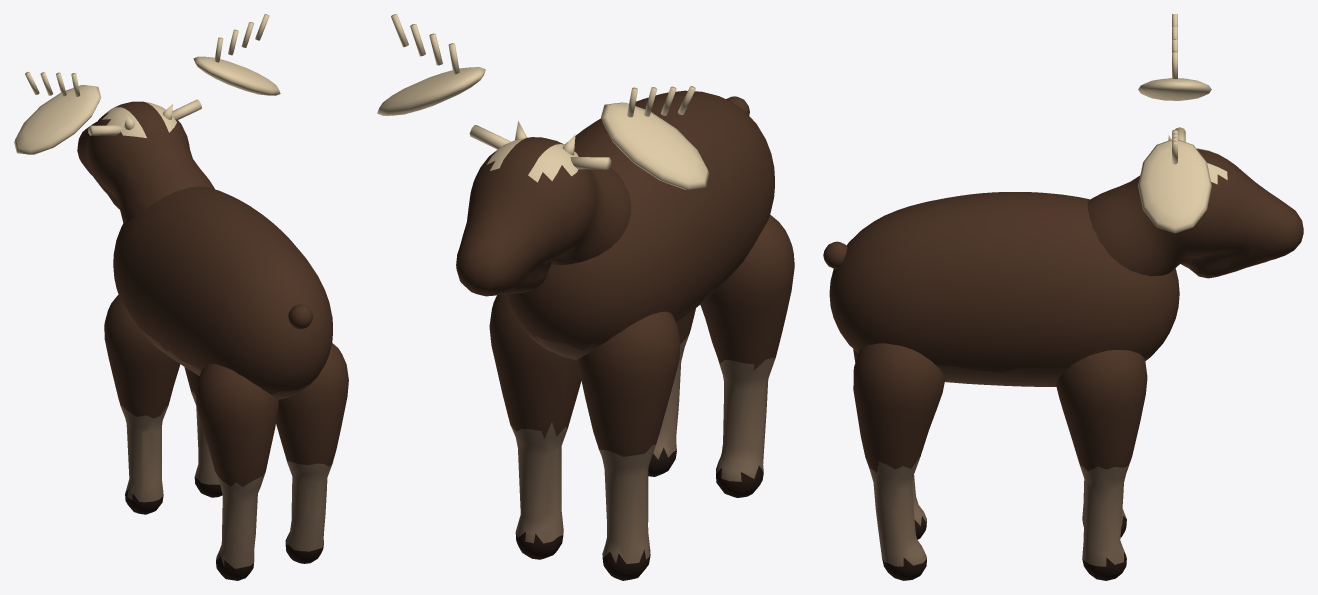
File: animal_moose.glb
3 views of the same model, side by side, from view 1: azimuth 30°, elevation 25°; view 2: azimuth 150°, elevation 25°; view 3: azimuth 270°, elevation 25° (orthographic). The views are drawn at different scales.
Parts seen in each view (by area): view 1: Body, Head, LegBL, LegBR, LegFL, LegFR, Tail; view 2: Body, Head, LegFL, LegBL, LegFR, LegBR; view 3: Body, Head, LegBR, LegFR.
Boxes of the visible parts, box(x1,y1,x2,y2) form: Body: box(113, 186, 332, 399); Head: box(14, 14, 280, 223); LegBL: box(195, 364, 278, 580); LegBR: box(276, 343, 348, 563); LegFL: box(104, 295, 180, 514); LegFR: box(184, 367, 222, 497); Tail: box(288, 304, 312, 329); Body: box(505, 90, 774, 359); Head: box(377, 14, 709, 296); LegFL: box(577, 311, 680, 580); LegBL: box(700, 215, 794, 497); LegFR: box(489, 294, 581, 559); LegBR: box(648, 308, 695, 476); Body: box(829, 192, 1179, 386); Head: box(1087, 14, 1303, 278); LegBR: box(853, 343, 945, 580); LegFR: box(1056, 350, 1147, 580).
Size of the model in its own units: 2.02 by 3.25 by 2.93.
